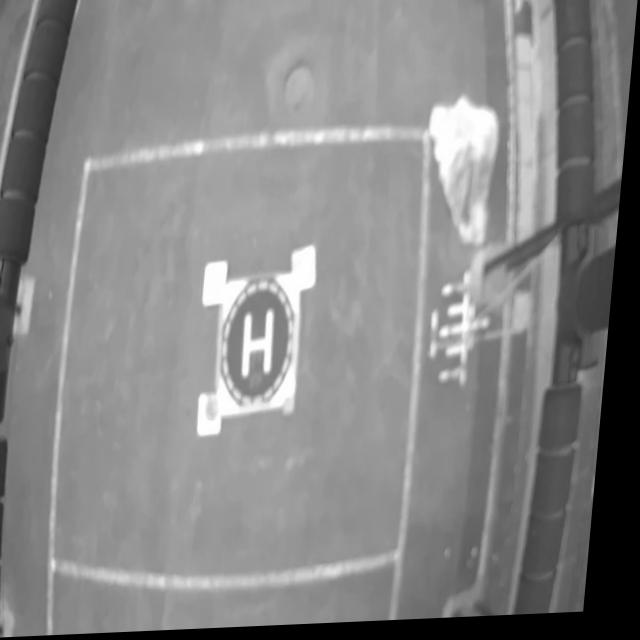Helipad: (248, 311, 280, 380)
